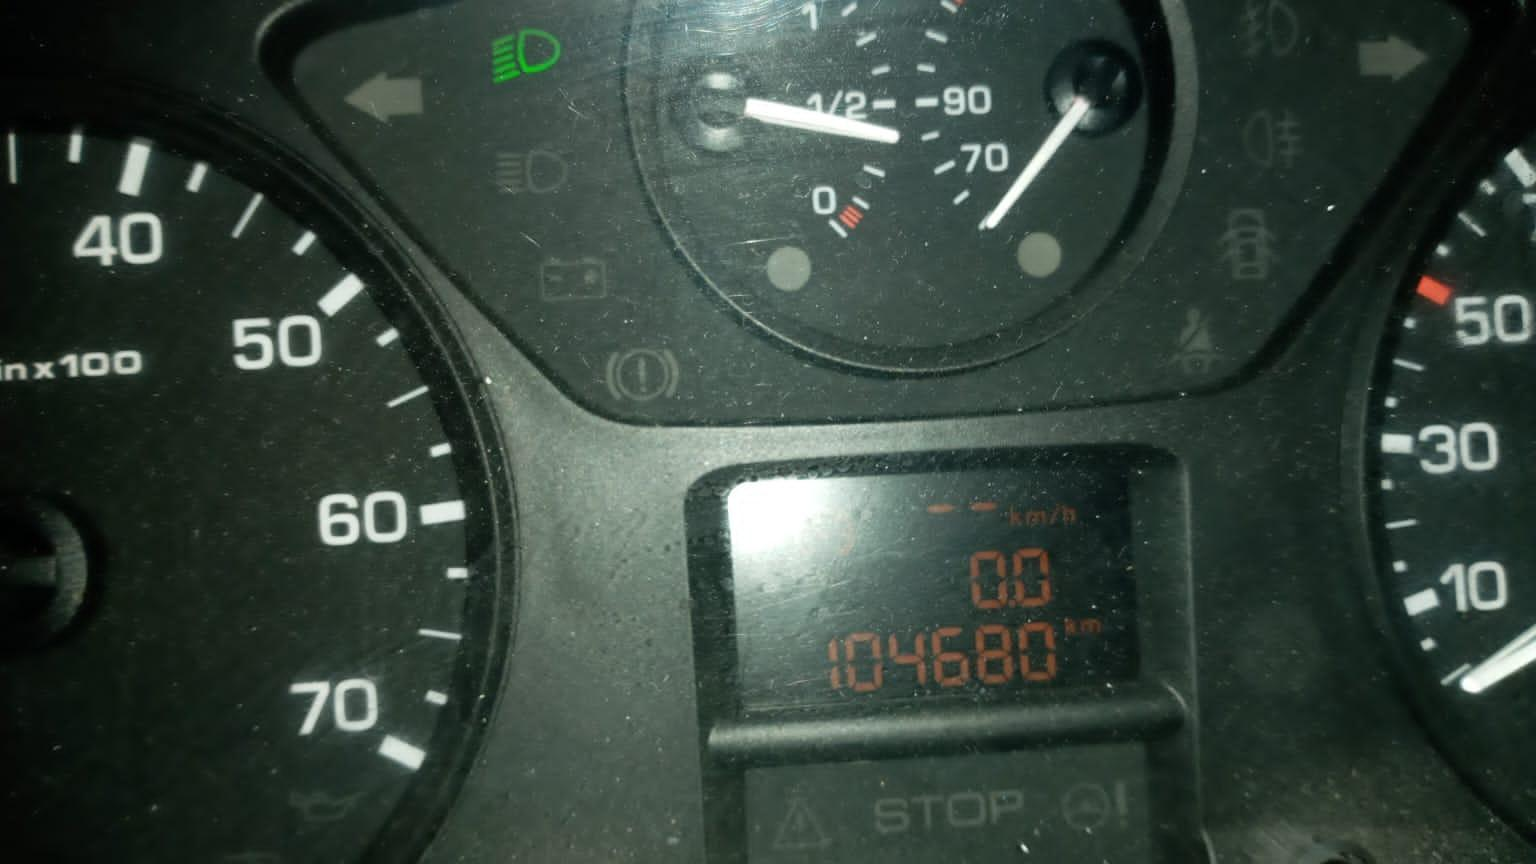,: (1009, 599, 1017, 609)
0: (1016, 620, 1057, 681), (844, 631, 883, 692), (968, 550, 1007, 609), (1012, 548, 1050, 607)
1: (825, 637, 840, 693)
4: (886, 629, 927, 687)
6: (930, 626, 969, 688)
8: (974, 623, 1013, 685)
X: (1061, 501, 1079, 526), (1025, 510, 1048, 527), (1079, 616, 1101, 634), (1009, 505, 1022, 527), (1050, 505, 1061, 527), (1063, 616, 1078, 633)
odometer: (722, 457, 1151, 712)
